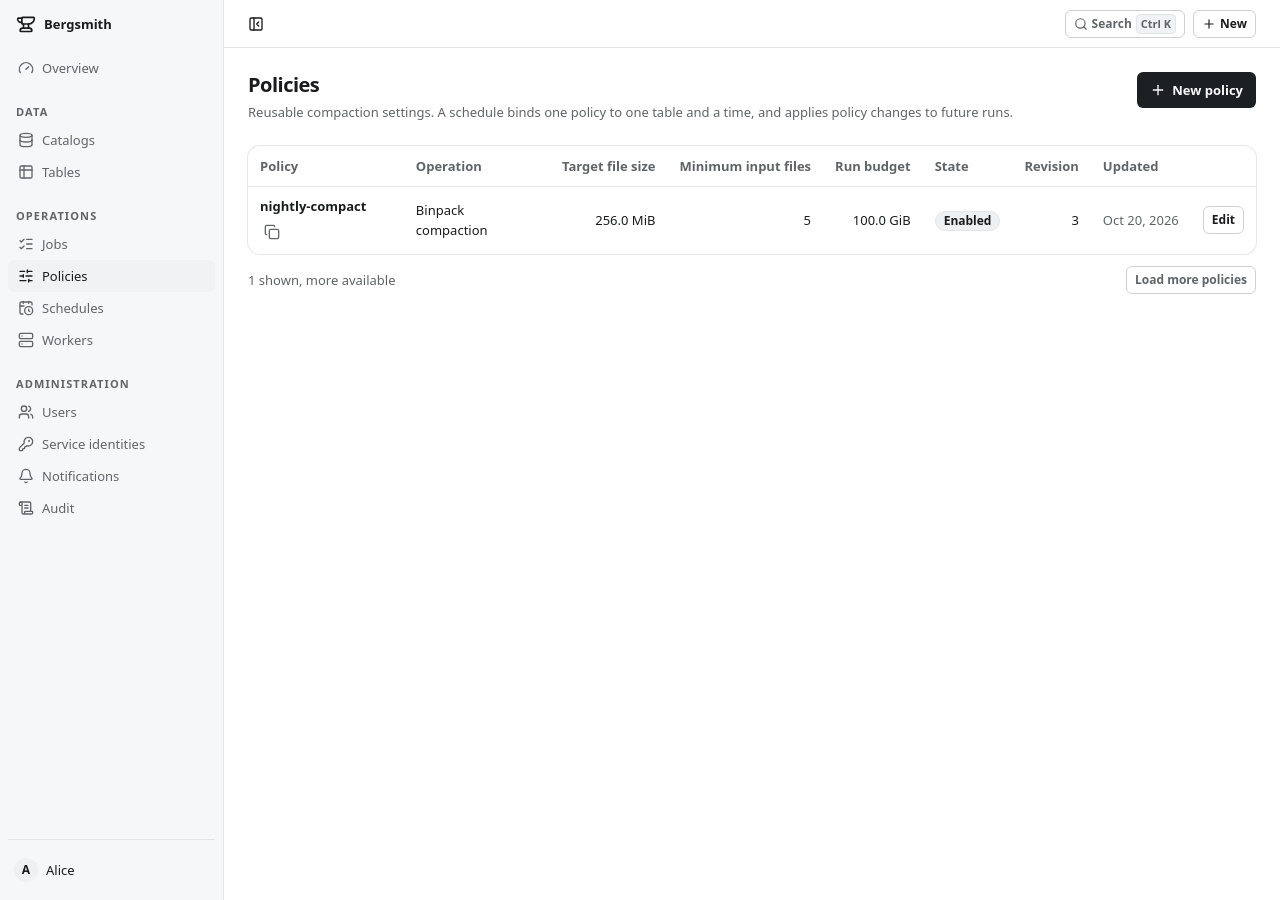
Test case: lists policies with their settings and revision, and loads more
Expected: the text "nightly-compact" is shown, [260, 197, 366, 244]
Expected: the text "Binpack compaction" is shown, [404, 186, 550, 254]
What coordinates should you click on to do the following:
click the button "Load more policies"
I would click on:
 (1191, 280)
Its box is [1126, 266, 1256, 294].
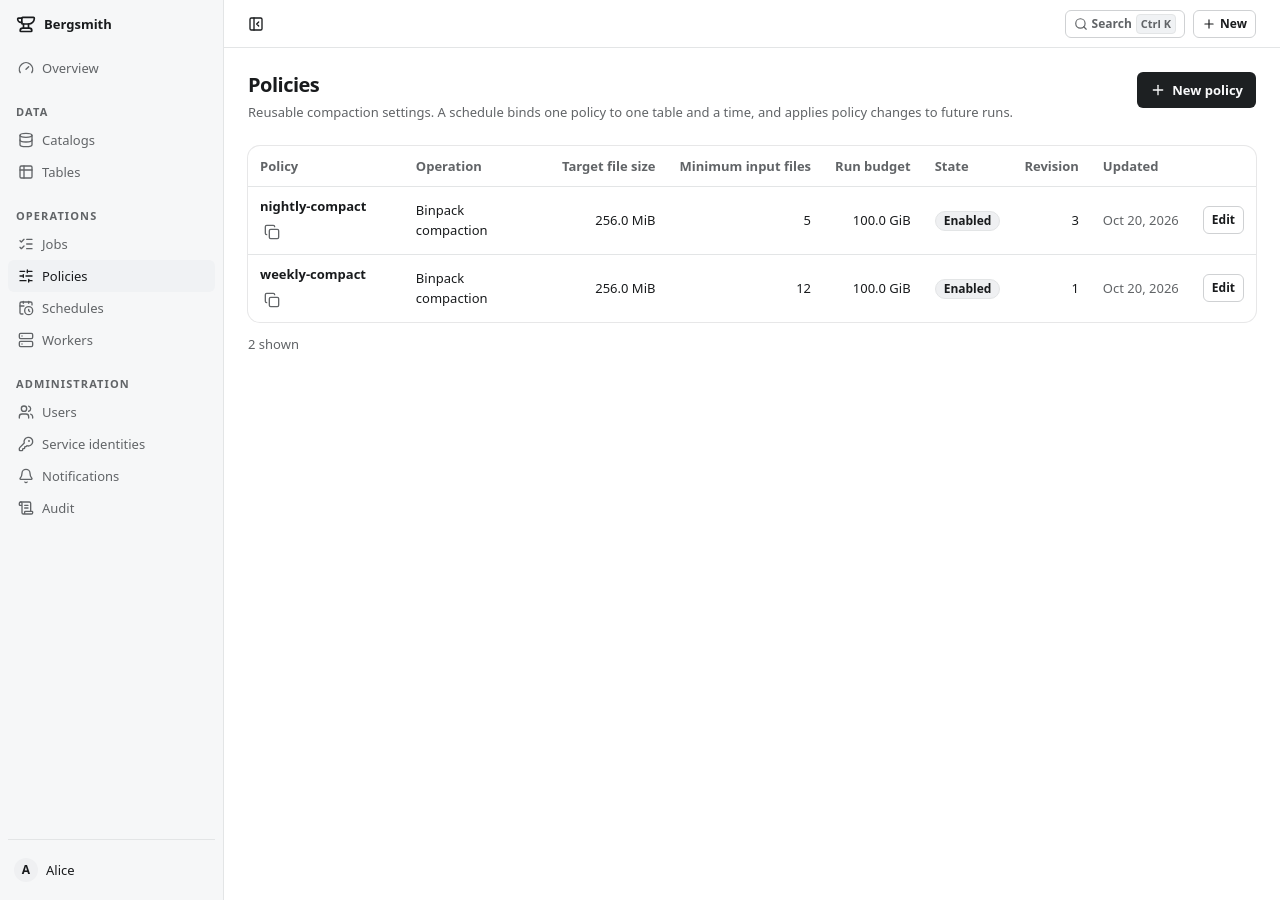
Expected: the text "weekly-compact" is shown, [260, 265, 366, 312]
Expected: the text "12" is shown, [796, 279, 811, 297]
